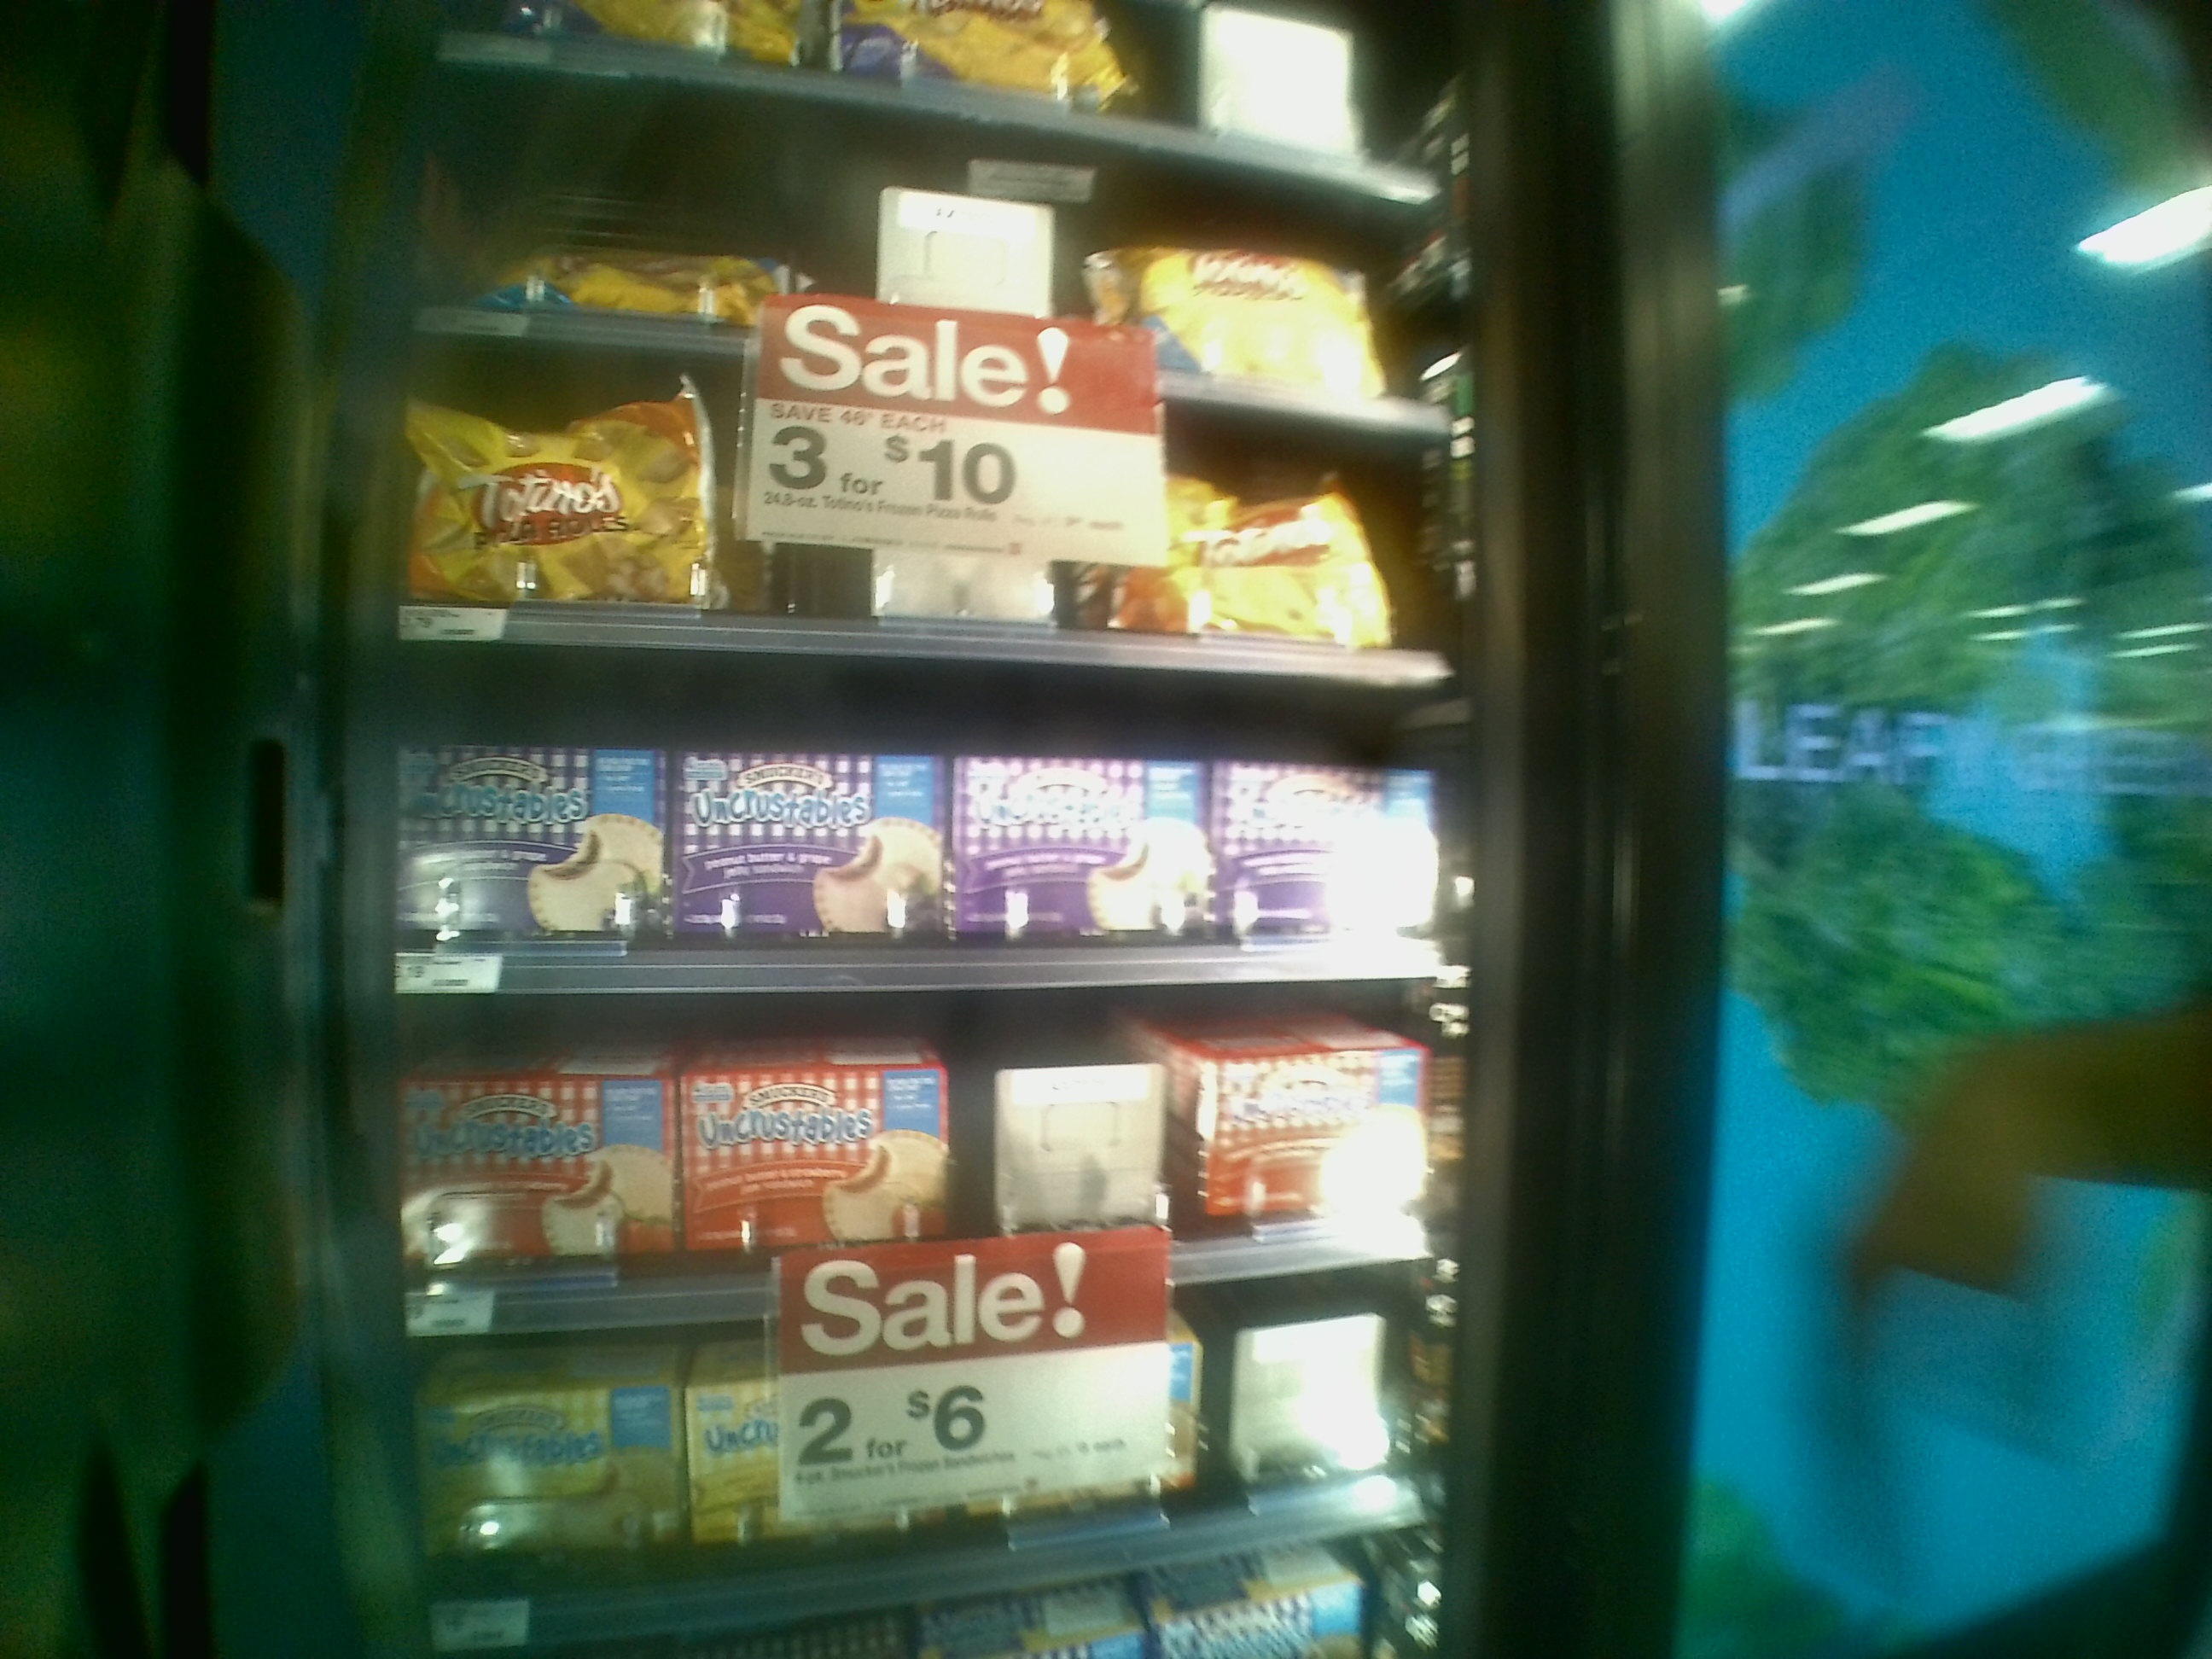shelf: (371, 319, 1517, 674), (345, 619, 1437, 983), (334, 979, 1439, 1267), (361, 1276, 1460, 1560)
